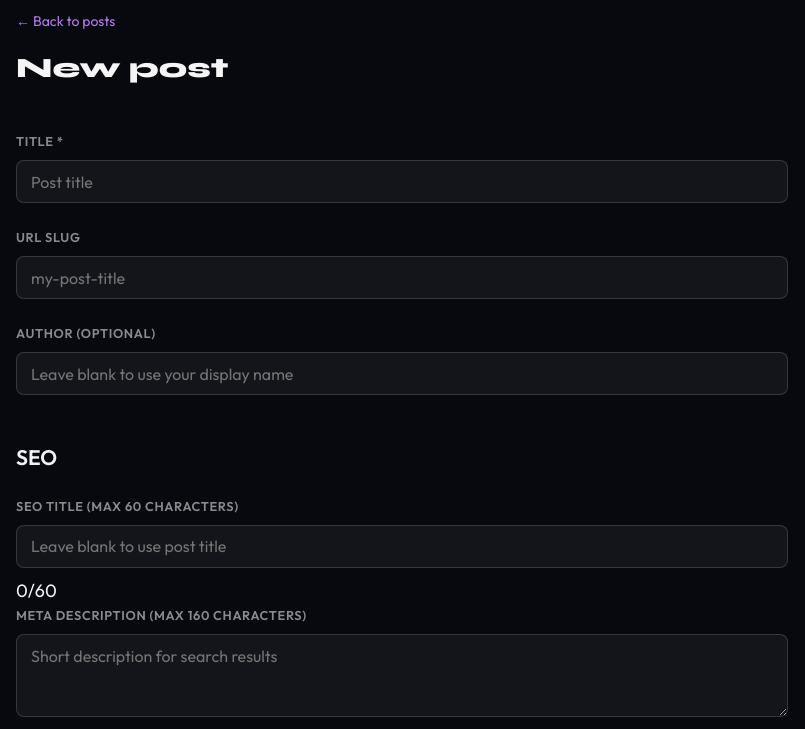
BlogManageEditPage — new post › auto-fills slug from title when user types title
Type "My First Post" into the field labelled "Title *".
click(402, 182); type("My First Post")  # box [16, 160, 788, 203]
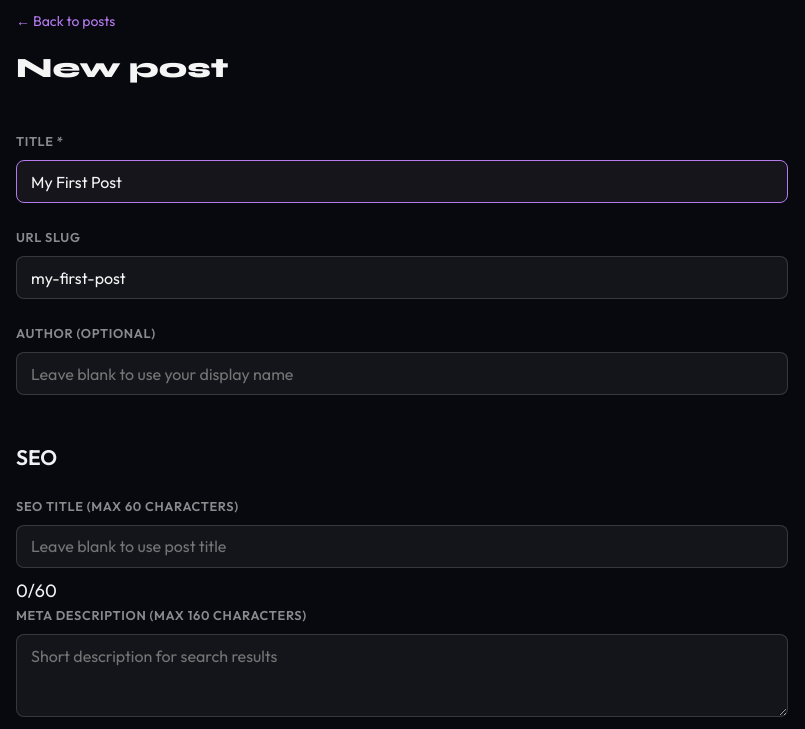
Check: the field labelled "URL slug" holds "my-first-post", box [16, 256, 788, 299]
